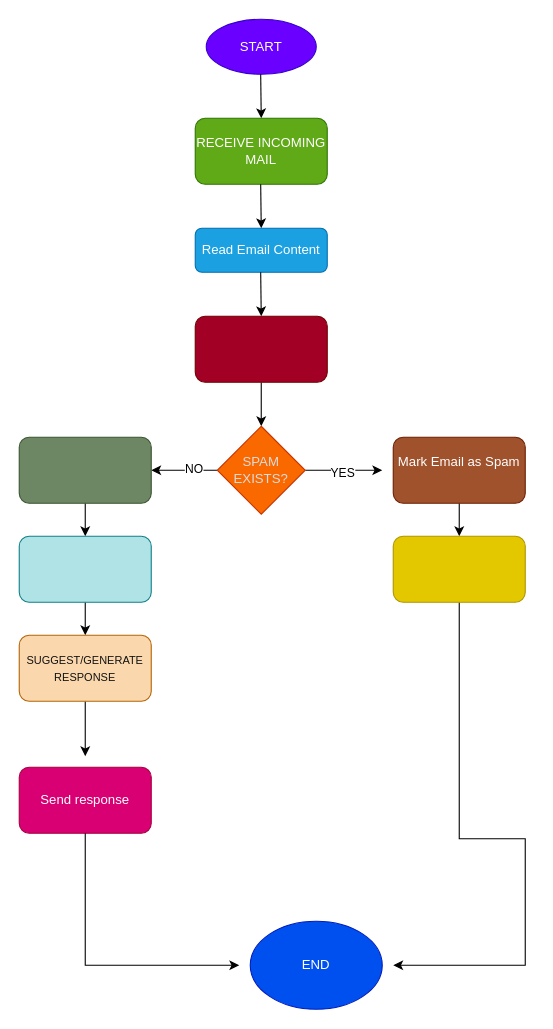
Some shapes in this 553 by 1029 pixel diagram are drawn without their labels. The shapes that lost their labels are listed below. From the top down, each one's centre as x and y in pixels, then its label:
At pixel 260 348: "CHECK FOR SPAM KEYWORDS “lottery” , “free money” , “win prize”".
At pixel 84 469: "Mark Email as Not Spam".
At pixel 84 568: "Send Email to Inbox / Continue Processing".
At pixel 458 568: "MOVE EMAIL TO SPAM HOLDER".
